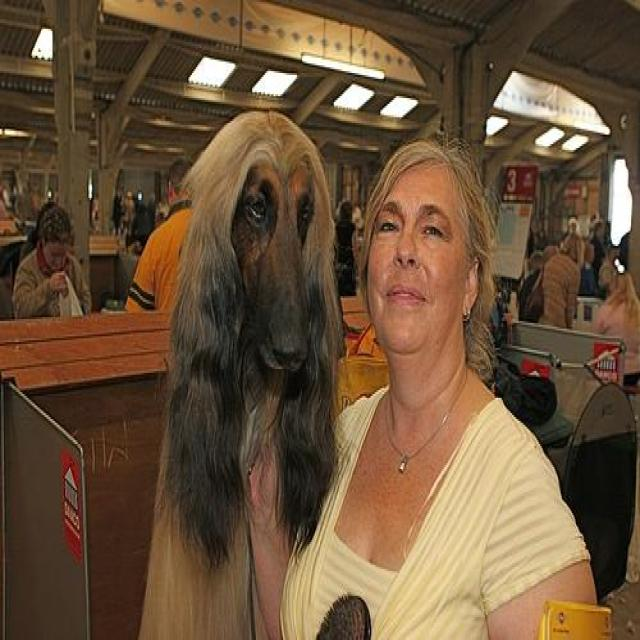afghan_hound: (134, 108, 338, 638)
